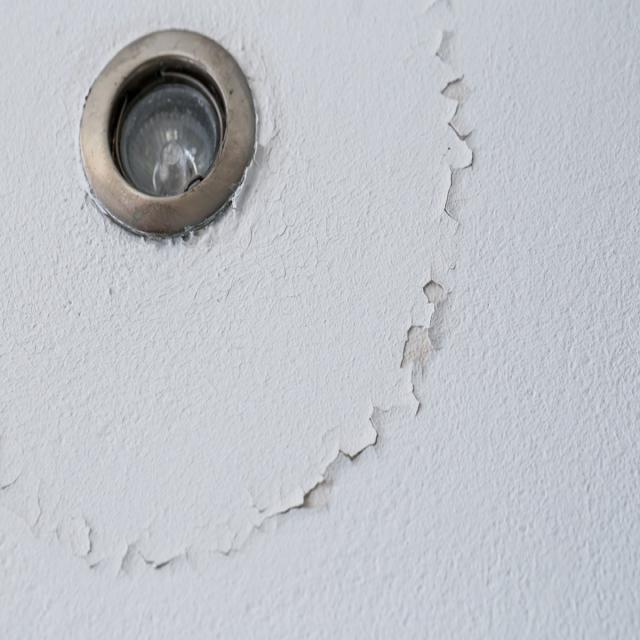leak: (138, 411, 393, 596), (393, 0, 479, 412), (2, 468, 144, 576)
